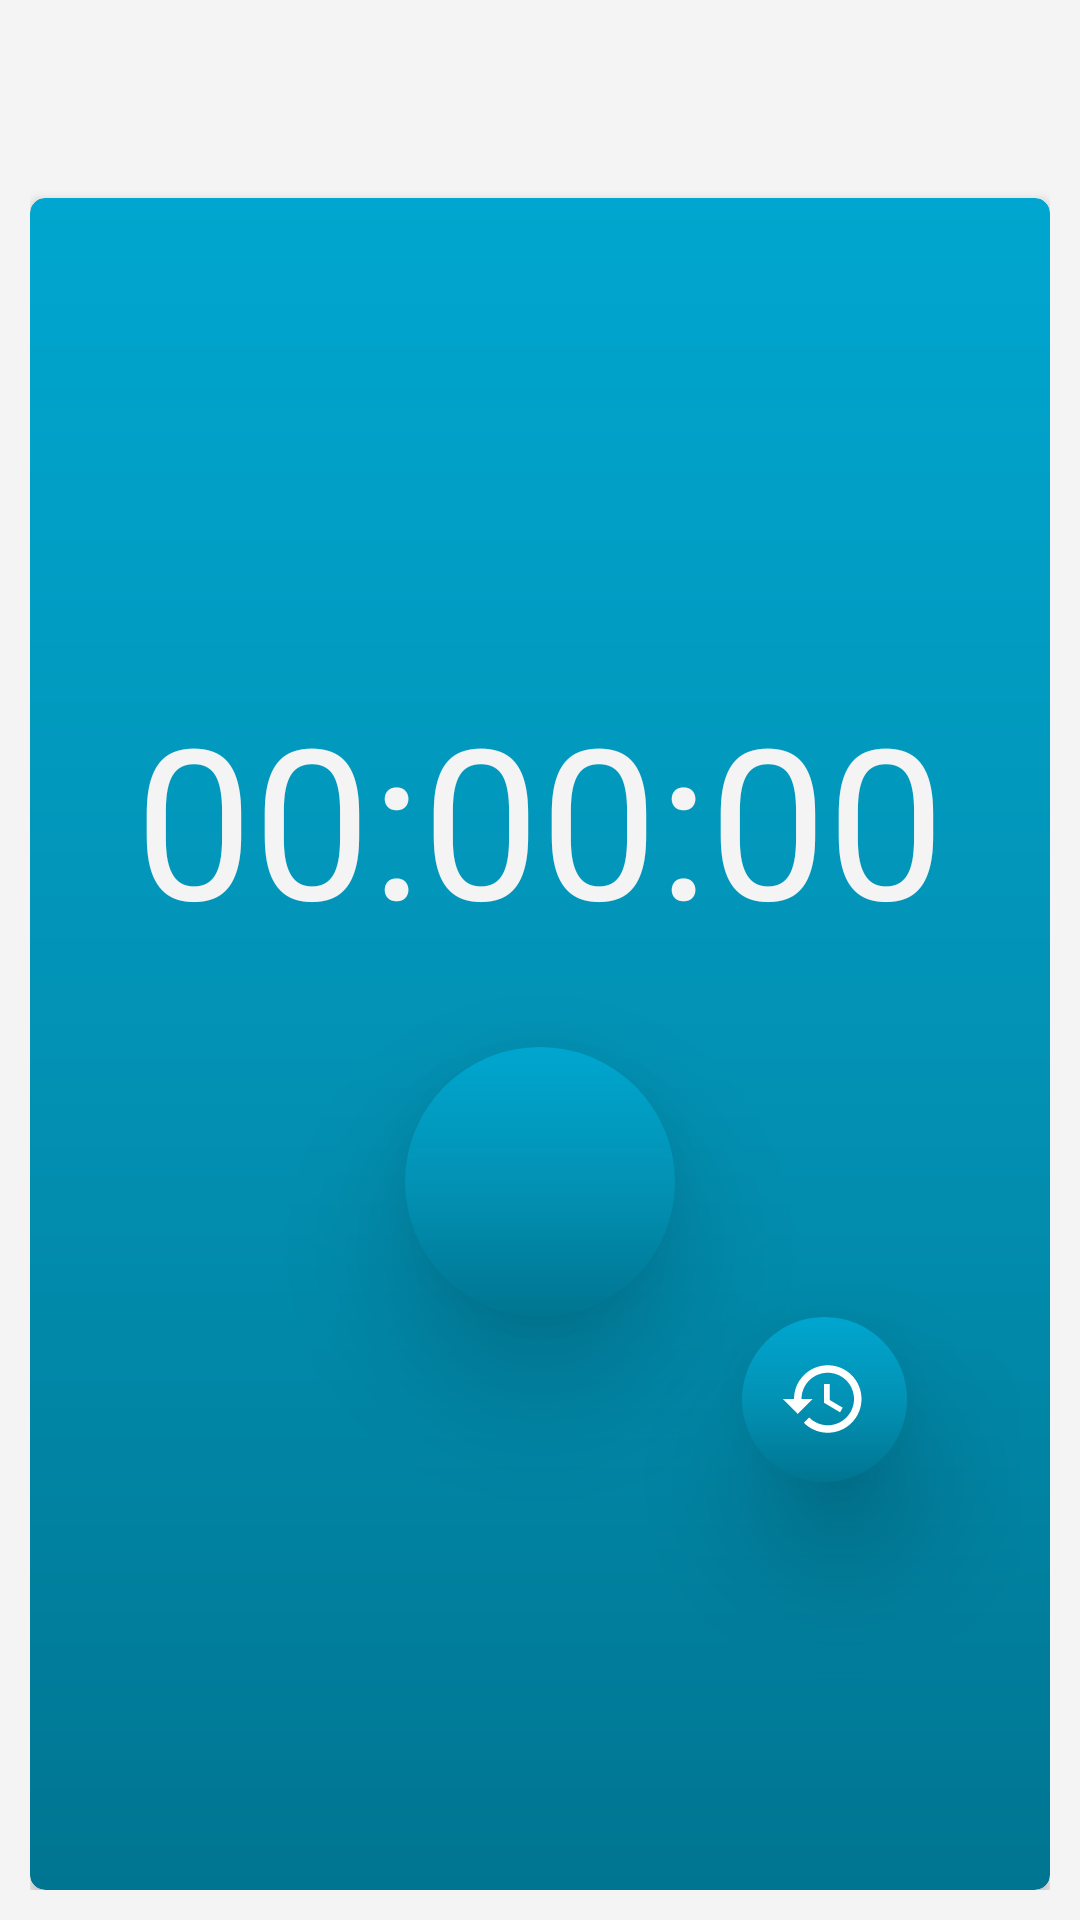

Named icons in this screenshot (1080px×1920px) and their bounding boxes, [left=x1, top=y1, right=x2, bottom=y2]:
Reset stopwatch: [left=779, top=1365, right=869, bottom=1444]
